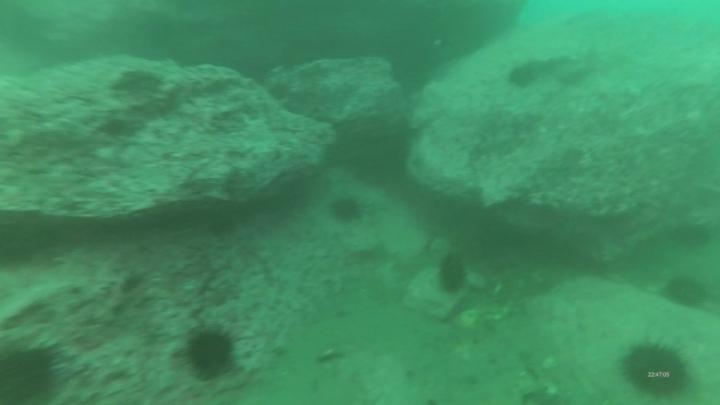echinus: (617, 337, 694, 402), (2, 343, 70, 405), (182, 324, 240, 384), (661, 273, 712, 311), (436, 249, 471, 296), (670, 219, 713, 251), (328, 196, 367, 226), (506, 65, 540, 89)
